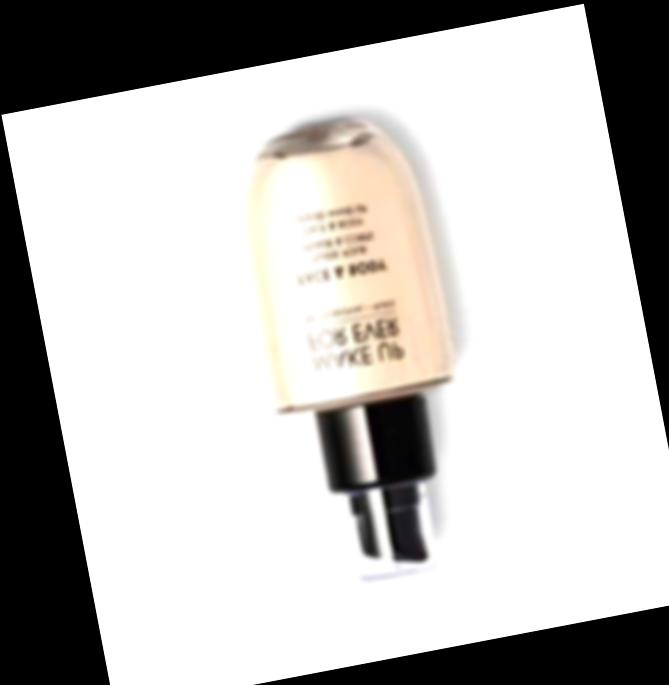cosmetic: (223, 105, 495, 594)
